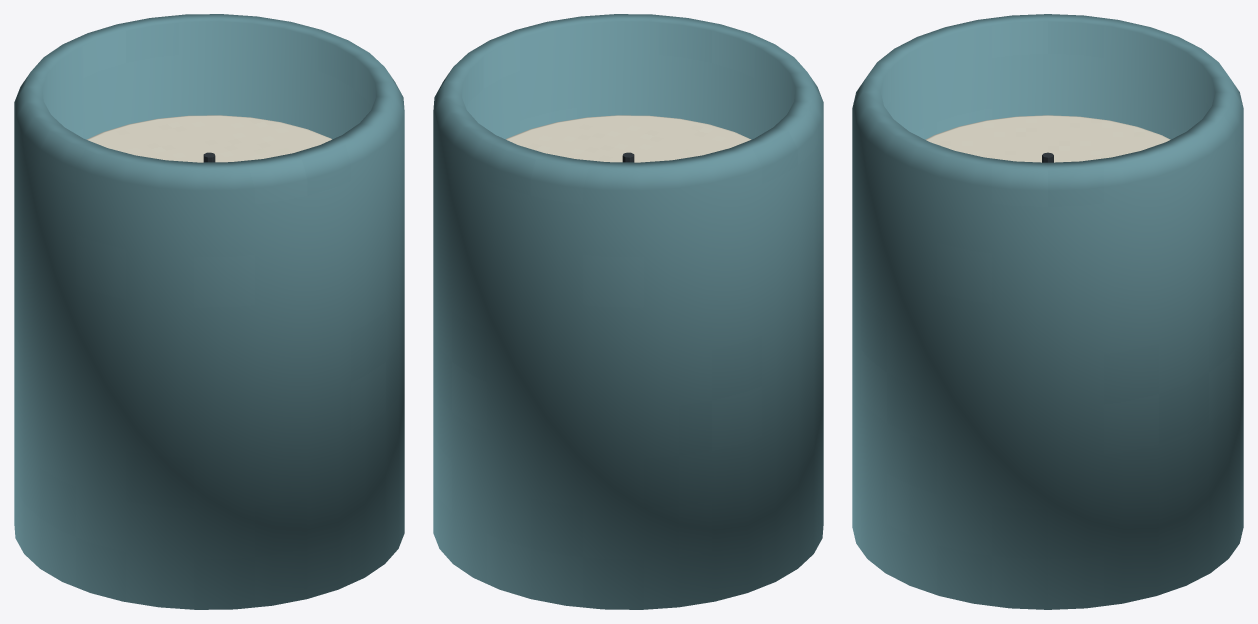
Rendered from jar-candle-original-interior-decor.glb.
The picture shows the model from 3 angles, left to right: view 1: azimuth 30°, elevation 25°; view 2: azimuth 150°, elevation 25°; view 3: azimuth 270°, elevation 25°; orthographic projection.
Parts seen in each view (by area): view 1: Candle jar, Candle wax fill; view 2: Candle jar, Candle wax fill; view 3: Candle jar, Candle wax fill.
Part boxes in pixels (box(x1,y1,x2,y2)): Candle jar: box(14, 14, 404, 609); Candle wax fill: box(86, 115, 331, 162); Candle jar: box(433, 14, 823, 609); Candle wax fill: box(506, 115, 751, 162); Candle jar: box(852, 14, 1243, 609); Candle wax fill: box(925, 115, 1170, 162).
Bounding box in the file's own units: 0.11 × 0.135 × 0.11.
3 materials, 3 textured.
